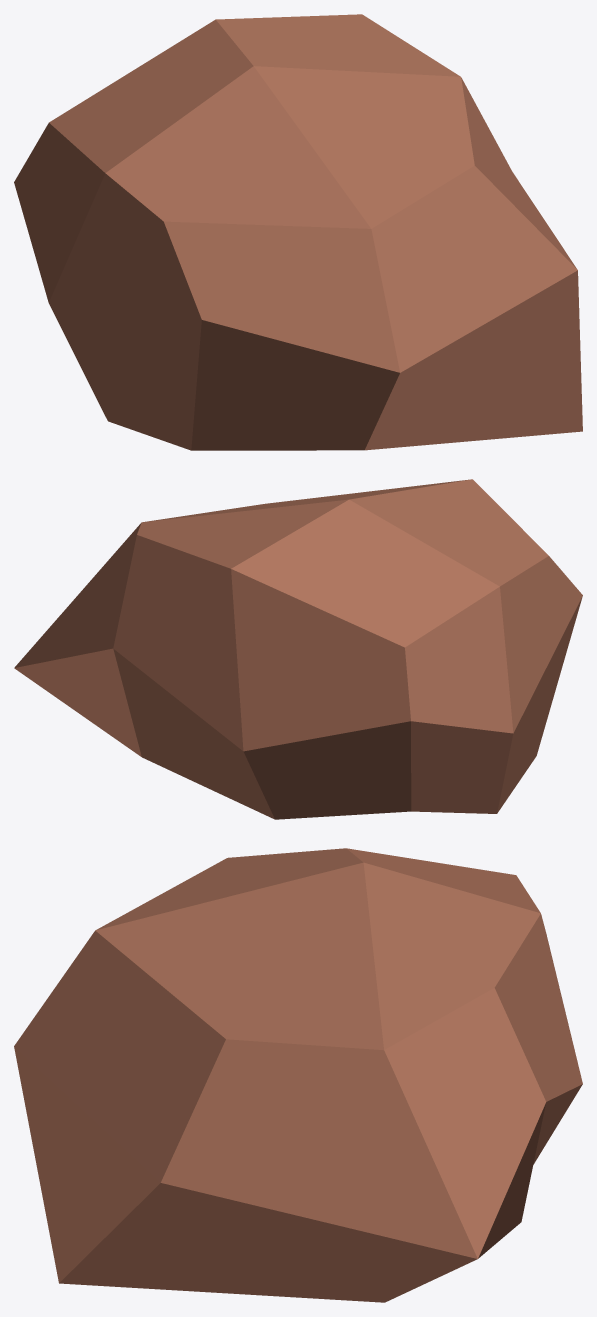
Rendered from kamien 1.fbx.
The picture shows the model from 3 angles, top to bottom: view 1: azimuth 30°, elevation 25°; view 2: azimuth 150°, elevation 25°; view 3: azimuth 270°, elevation 25°; orthographic projection. The views are drawn at different scales.
Visible parts, largest first — view 1: Cube; view 2: Cube; view 3: Cube.
Boxes of the visible parts, x1=… form: Cube: x1=14, y1=14, x2=582, y2=450; Cube: x1=14, y1=479, x2=582, y2=819; Cube: x1=14, y1=848, x2=582, y2=1302.
Size of the model in its own units: 310 by 183 by 285.
Materials: 1 (1 with a texture image).
